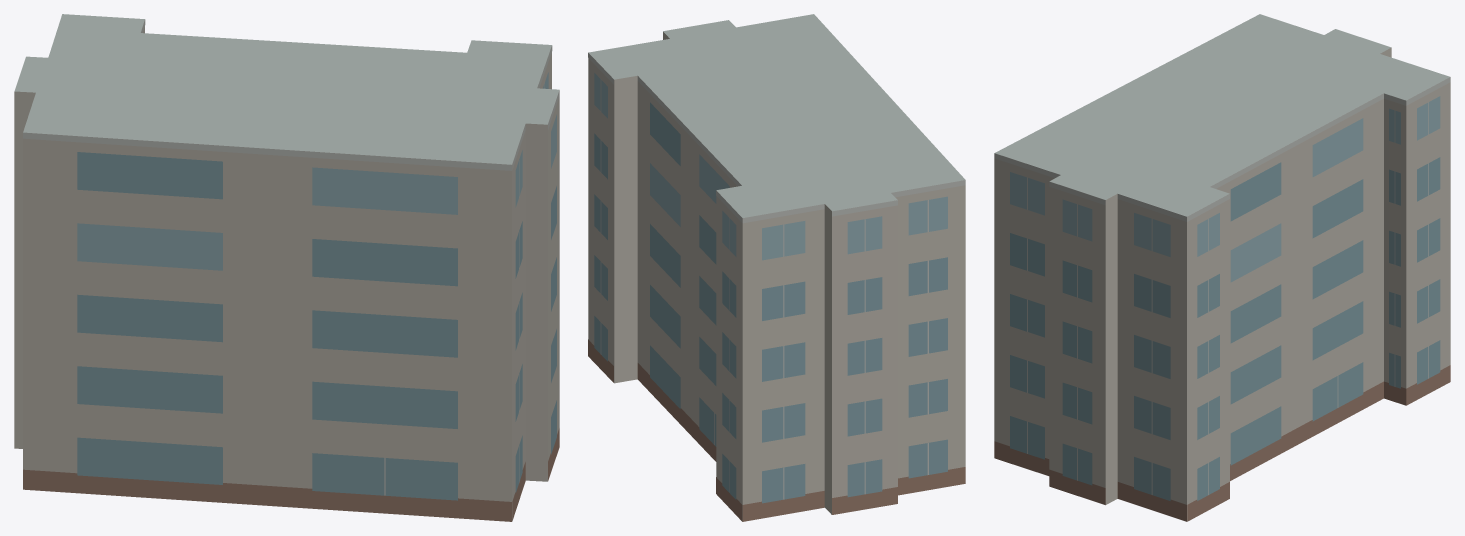
File: survey-upis-33040679.glb
3 views of the same model, side by side, from view 1: azimuth 30°, elevation 25°; view 2: azimuth 150°, elevation 25°; view 3: azimuth 270°, elevation 25° (orthographic). The views are drawn at different scales.
Visible parts, largest first — view 1: survey-upis-33040679.tmp; view 2: survey-upis-33040679.tmp; view 3: survey-upis-33040679.tmp.
Boxes of the visible parts, x1,y1,x2,y2 form: survey-upis-33040679.tmp: (14, 14, 559, 521); survey-upis-33040679.tmp: (588, 14, 965, 521); survey-upis-33040679.tmp: (994, 14, 1450, 521).
Bounding box in the file's own units: 20.25 × 14.2 × 19.25.
